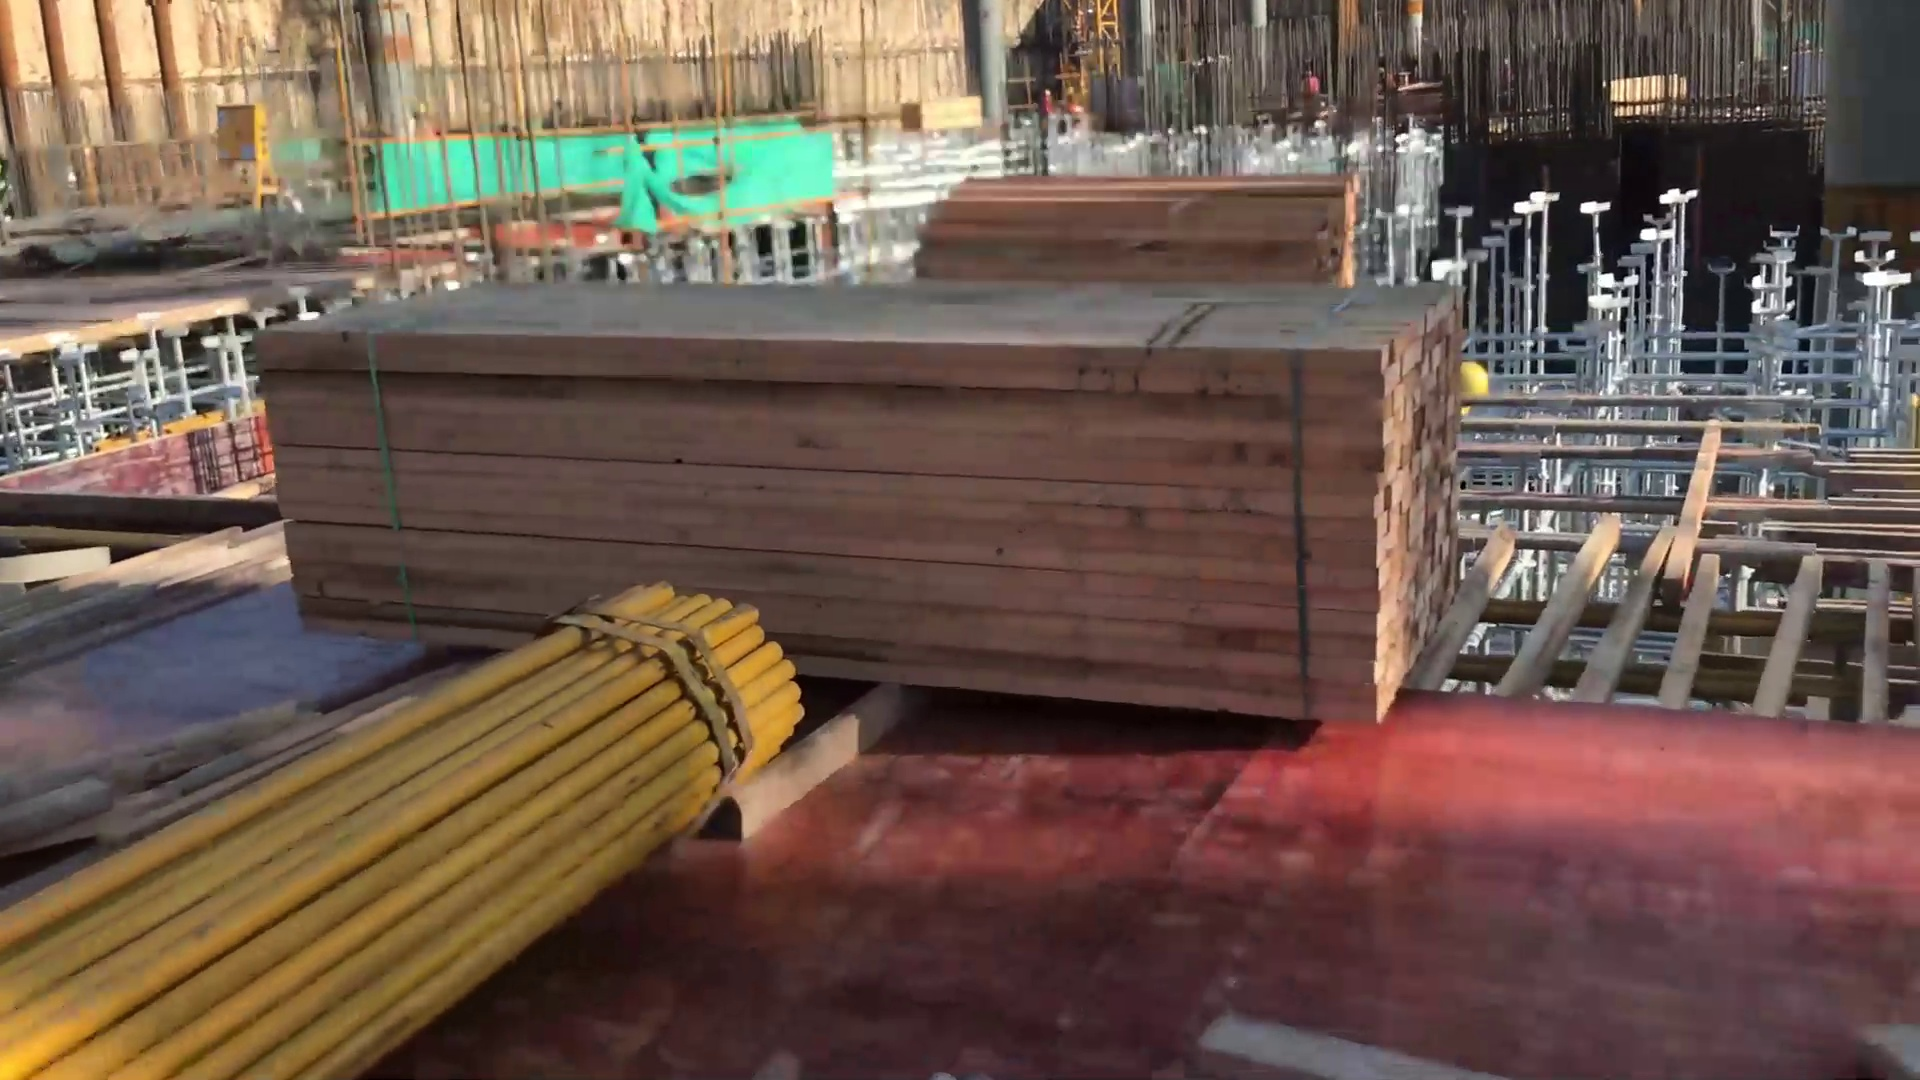ebox: (206, 95, 286, 223)
helmet: (1455, 351, 1486, 410)
wood: (231, 167, 1490, 746)
